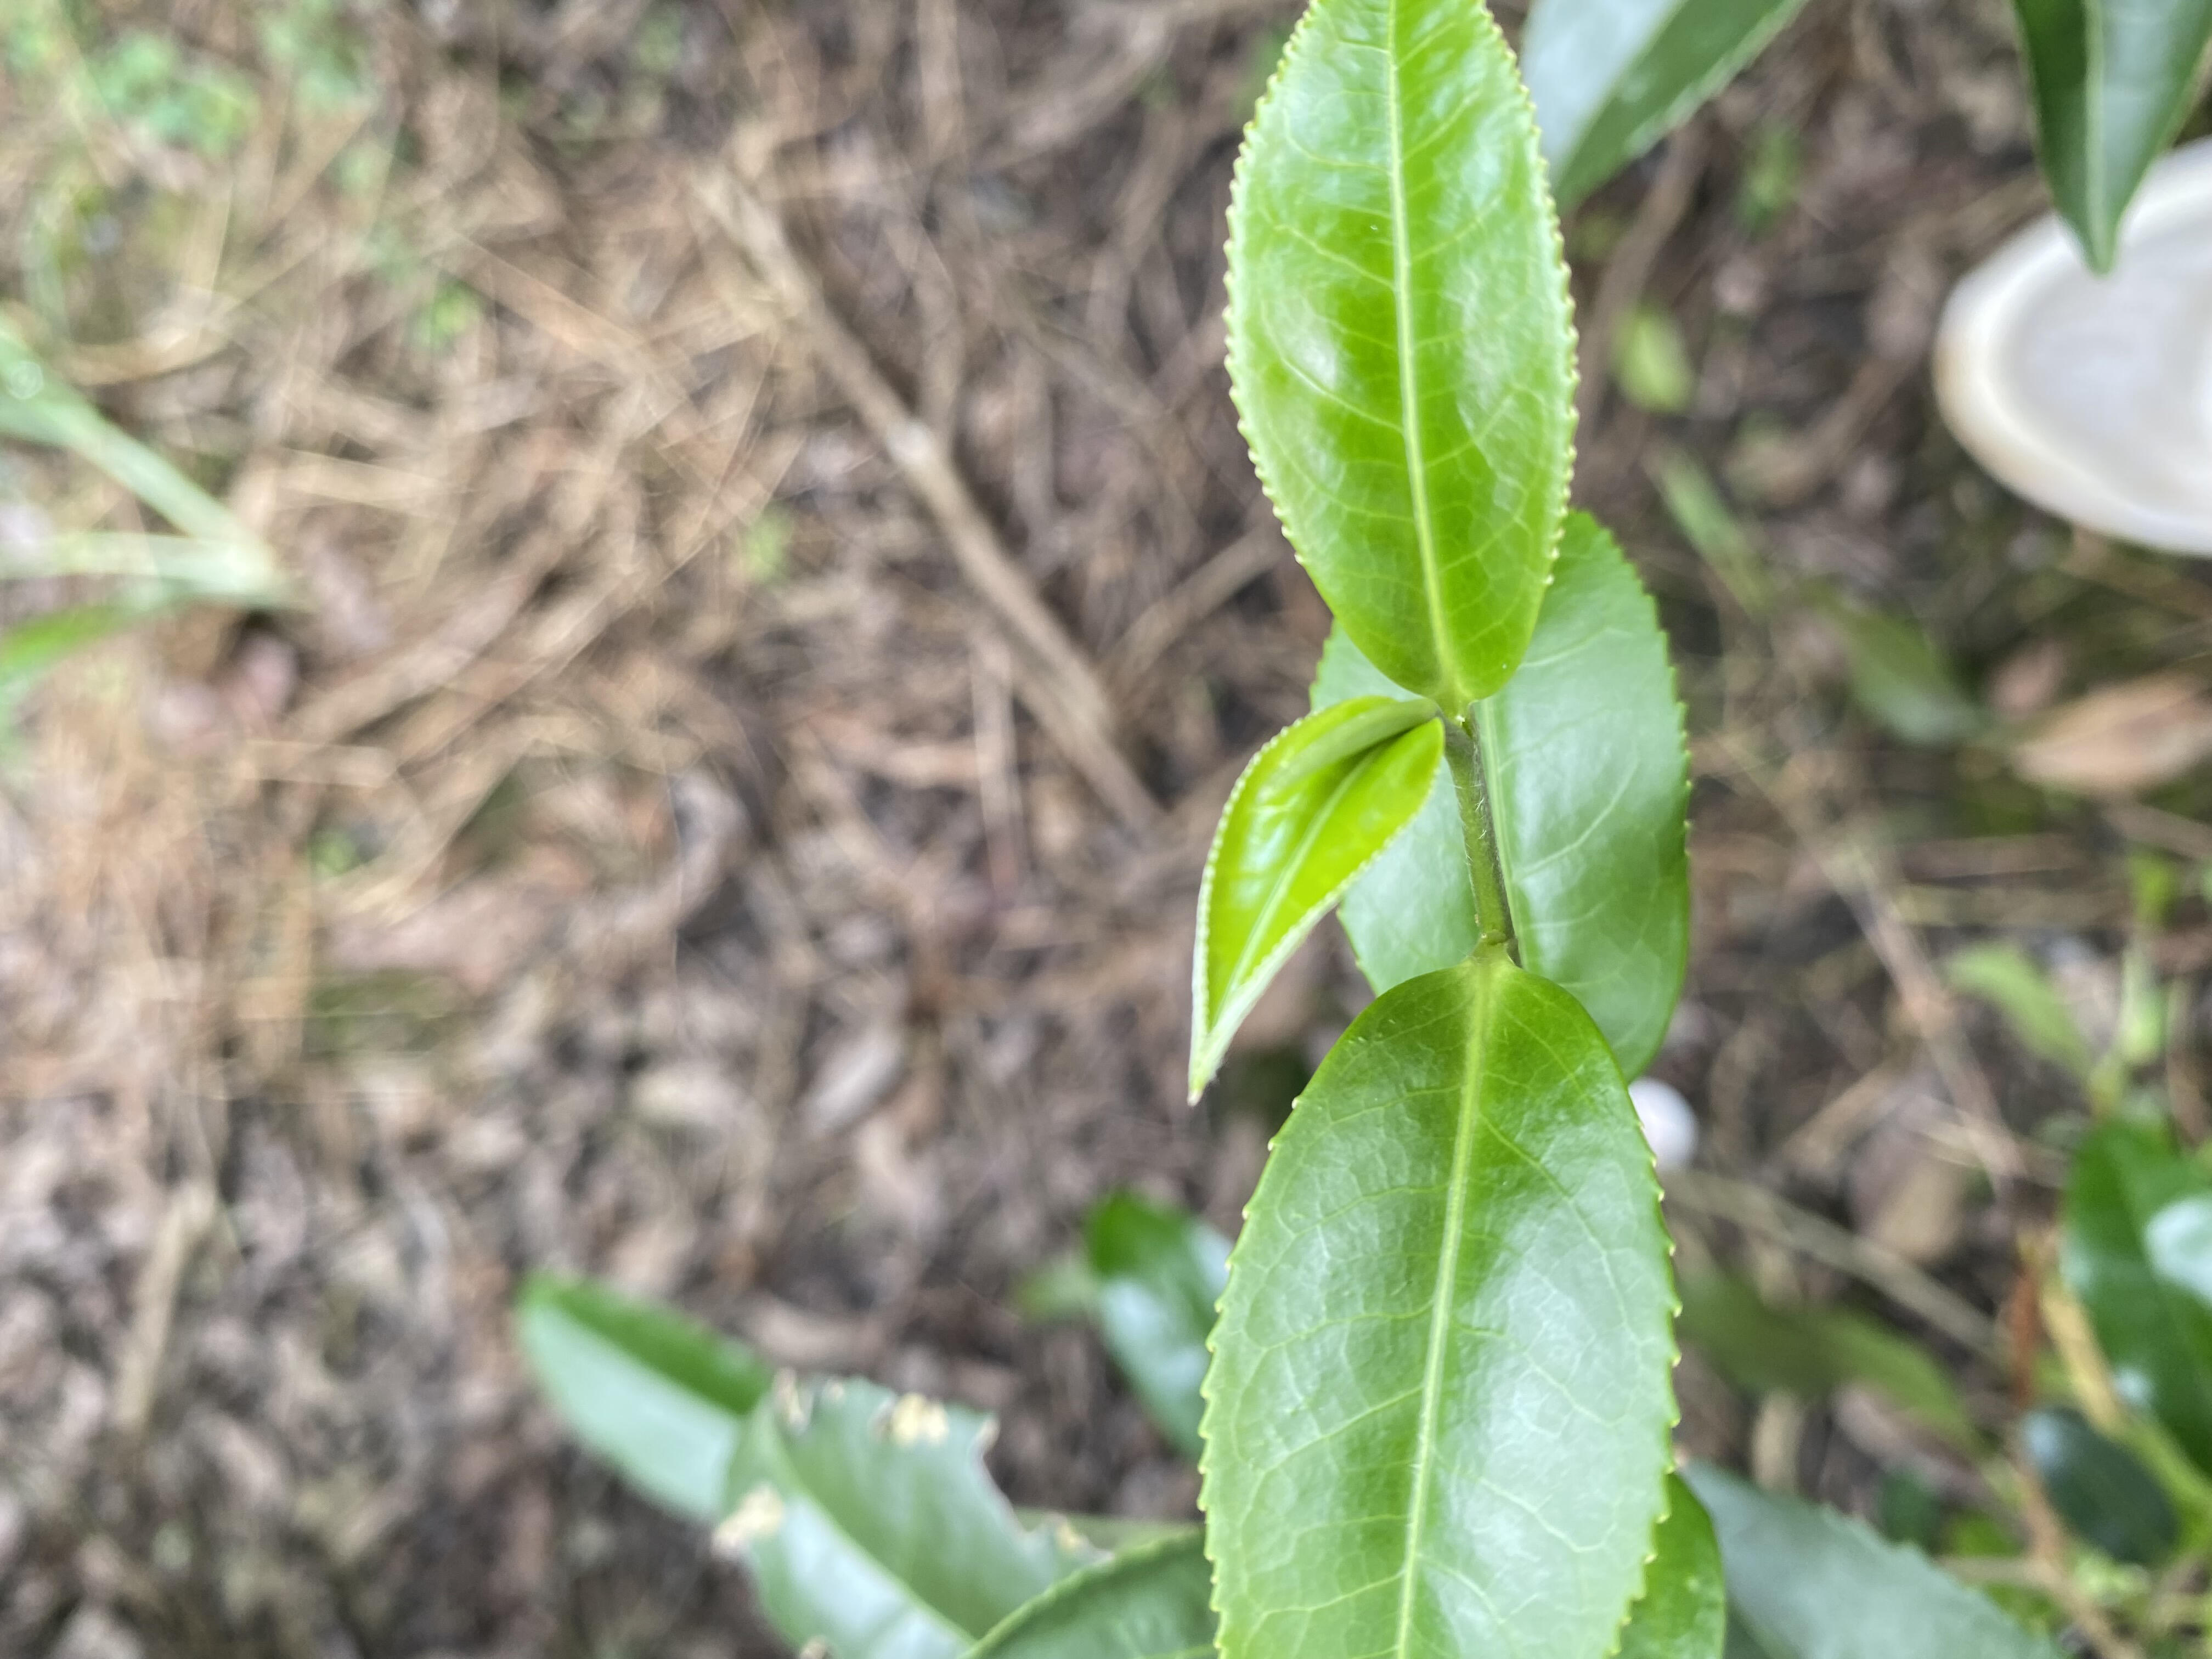healthy: (1191, 969, 1689, 1657), (1216, 5, 1583, 706), (1183, 694, 1444, 1107)
